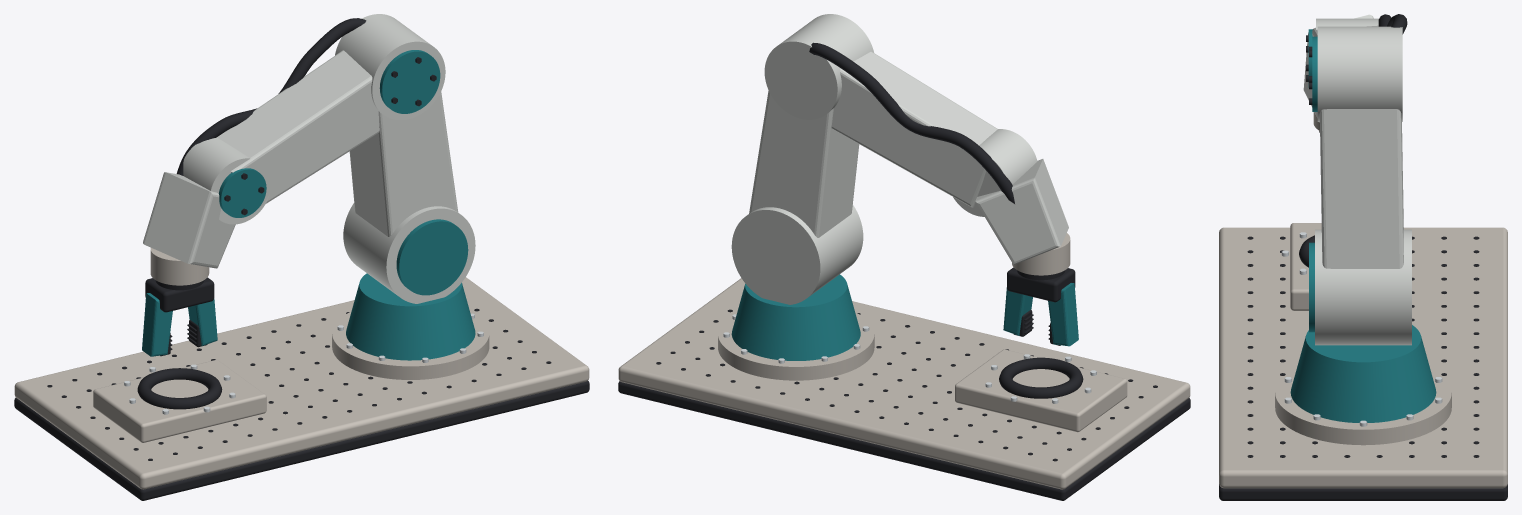
Rendered from robots-07.glb.
3 renders of one model, left to right at view 1: azimuth 30°, elevation 25°; view 2: azimuth 150°, elevation 25°; view 3: azimuth 270°, elevation 25°, orthographic. The views are drawn at different scales.
Visible parts, largest first — view 1: plate, forearm, base, upper, fixture, shoulder, wrist, elbow, distal, fingers, cable; view 2: plate, forearm, base, upper, fixture, shoulder, wrist, elbow, fingers, cable, distal; view 3: plate, base, upper, shoulder, elbow, fixture, distal, cable, wrist.
Boxes of the visible parts, x1,y1,x2,y2 form: plate: [14, 277, 589, 500]; forearm: [217, 50, 379, 205]; base: [332, 273, 489, 379]; upper: [349, 91, 458, 236]; fixture: [93, 359, 266, 442]; shoulder: [343, 203, 475, 303]; wrist: [143, 172, 235, 290]; elbow: [335, 14, 445, 120]; distal: [183, 137, 269, 224]; fingers: [142, 277, 217, 356]; cable: [176, 18, 366, 175]; plate: [618, 278, 1190, 500]; forearm: [831, 51, 997, 207]; base: [718, 274, 874, 380]; upper: [749, 90, 859, 237]; fixture: [955, 349, 1127, 432]; shoulder: [731, 204, 863, 304]; wrist: [975, 159, 1070, 280]; elbow: [764, 14, 873, 119]; fingers: [1003, 267, 1078, 346]; cable: [809, 42, 1014, 203]; distal: [953, 129, 1037, 216]; plate: [1219, 227, 1507, 500]; base: [1275, 325, 1451, 445]; upper: [1319, 109, 1403, 268]; shoulder: [1309, 229, 1411, 345]; elbow: [1309, 26, 1402, 121]; fixture: [1281, 223, 1321, 310]; distal: [1306, 18, 1378, 87]; cable: [1378, 14, 1407, 34]; wrist: [1303, 14, 1373, 132].
Bounding box in the file's own units: 3.43 × 2.58 × 1.7.
